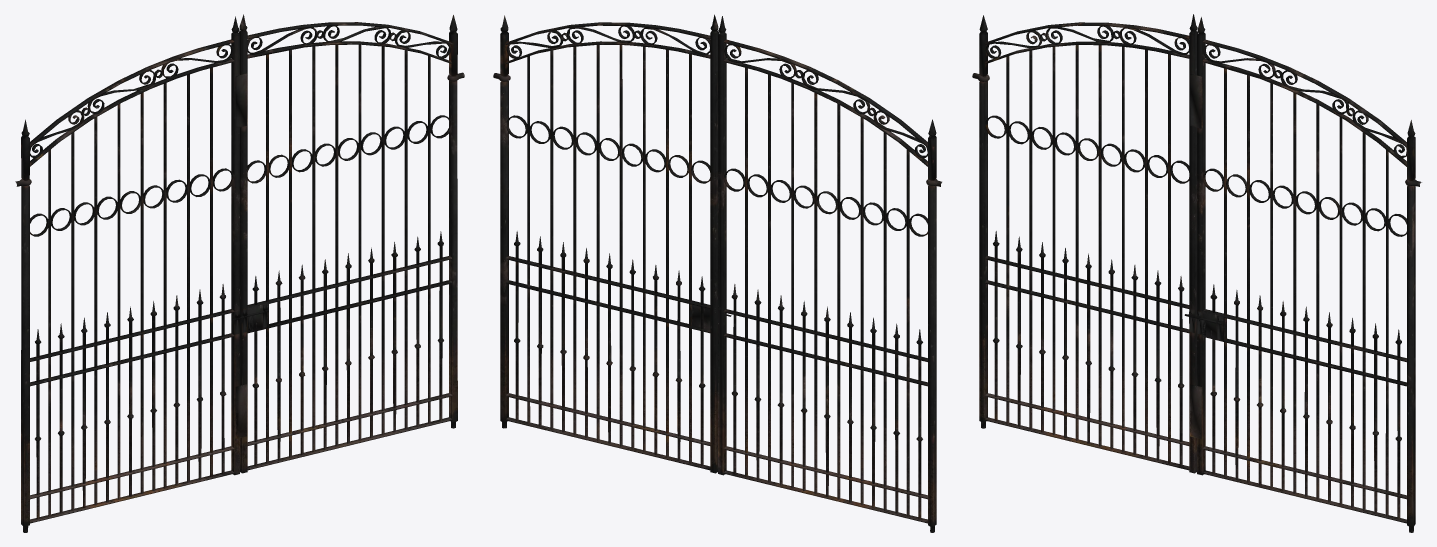
Rendered from large_iron_gate.glb.
3 renders of one model, left to right at view 1: azimuth 30°, elevation 25°; view 2: azimuth 150°, elevation 25°; view 3: azimuth 330°, elevation 25°, orthographic.
Visible parts, largest first — view 1: large_iron_gate_right_door; view 2: large_iron_gate_right_door; view 3: large_iron_gate_right_door.
Part boxes in pixels (x1,y1,x2,y2): large_iron_gate_right_door: (15, 14, 464, 532); large_iron_gate_right_door: (493, 14, 941, 532); large_iron_gate_right_door: (972, 14, 1421, 532).
Bounding box in the file's own units: 2.95 × 2.93 × 0.0958.
1 material, 1 textured.
